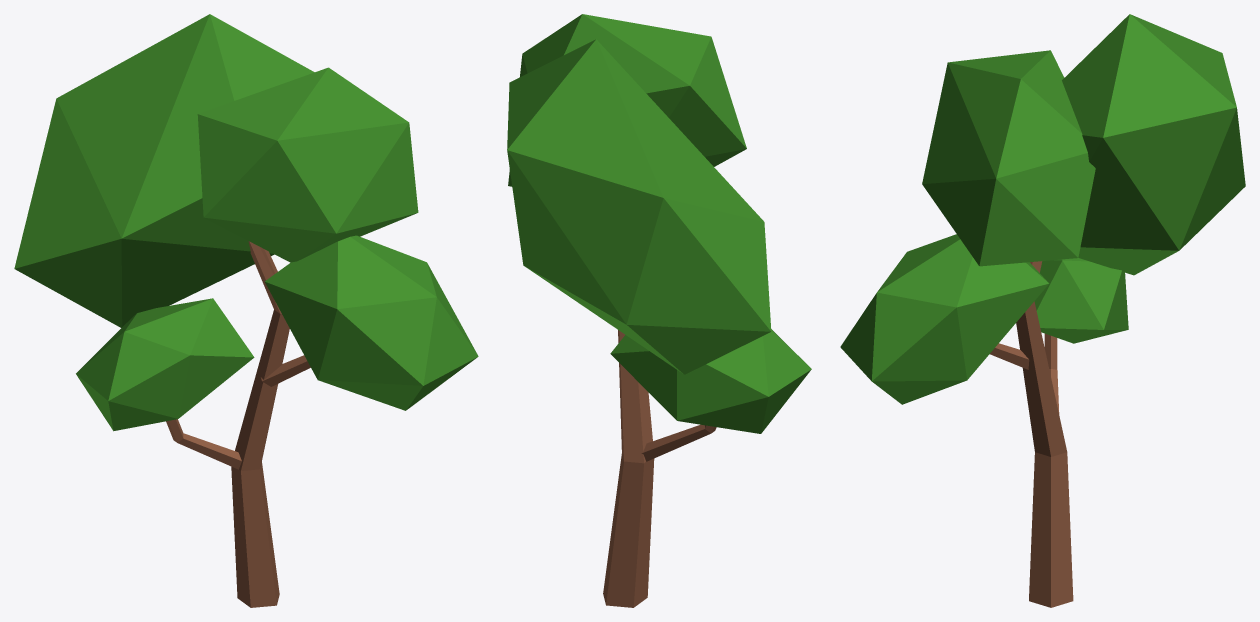
The model's file is Tree01.glb.
3 views of the same model, side by side, from view 1: azimuth 30°, elevation 25°; view 2: azimuth 150°, elevation 25°; view 3: azimuth 270°, elevation 25° (orthographic). The views are drawn at different scales.
Visible parts, largest first — view 1: tree01; view 2: tree01; view 3: tree01.
Boxes of the visible parts, box(x1,y1,x2,y2) form: tree01: box(14, 14, 478, 607); tree01: box(507, 14, 811, 607); tree01: box(840, 14, 1245, 607).
Size of the model in its own units: 18.13 by 29.93 by 19.04.
Materials: 1 (1 with a texture image).
